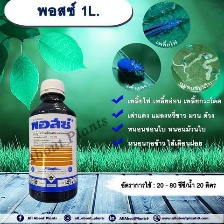insecticide: (24, 76, 81, 205)
